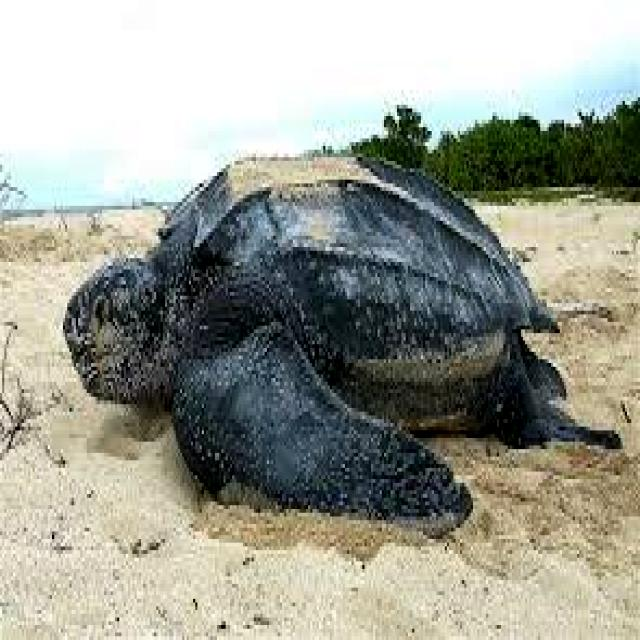Sea turtle: (53, 138, 607, 581)
